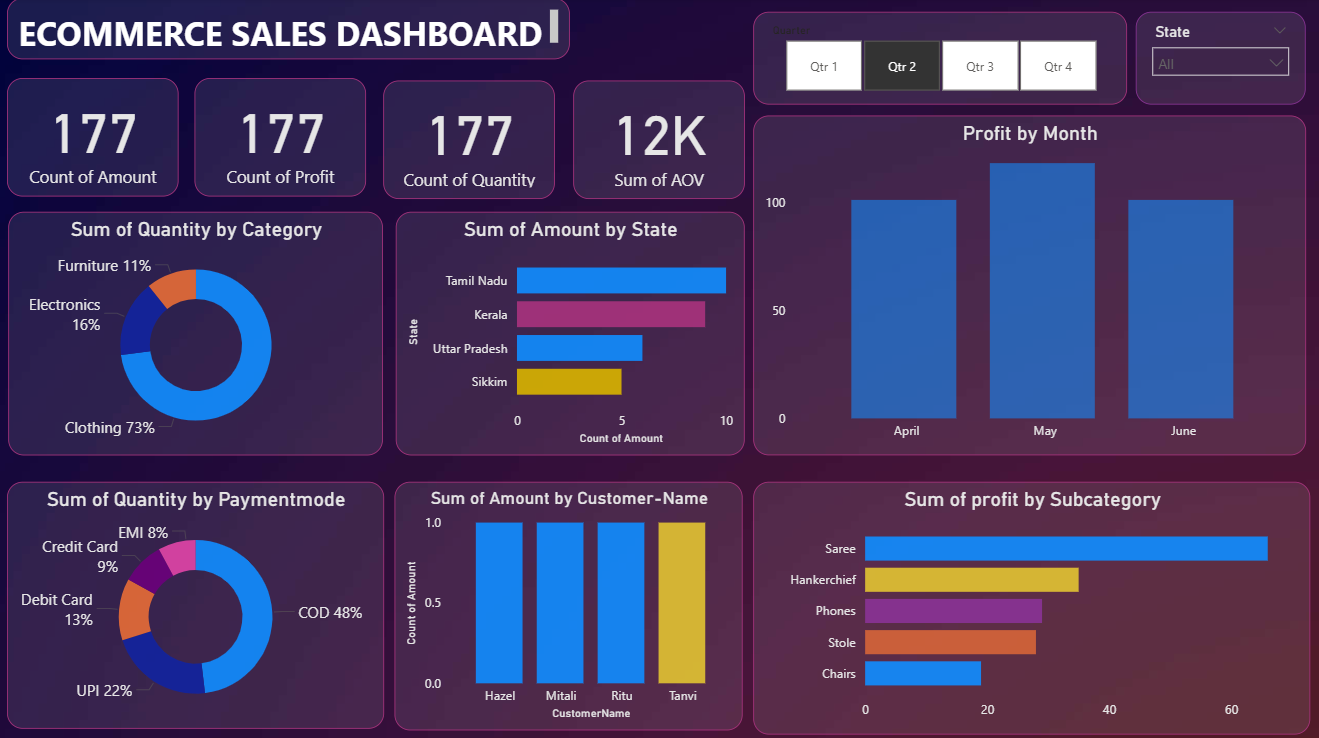

This screenshot's page, from the dashboard's own definition file:
{"tool":"powerbi","page":{"name":"Ecommerce Sales","canvas":[1280,720],"ordinal":0},"visuals":[{"type":"textbox","box":[9.7,0,542.9,59.1],"z":0},{"type":"columnChart","title":"Profit by Month","fields":{"Category":["Orders.Order Date.Variation.Date Hierarchy.Month"],"Y":["CountNonNull(Details.Profit)"]},"box":[729.9,113.4,533.2,328.2],"z":1000},{"type":"donutChart","title":"Sum of Quantity by Category","fields":{"Category":["Details.Category"],"Y":["CountNonNull(Details.Quantity)"]},"box":[10.9,206.3,361.9,235.3],"z":2000},{"type":"clusteredBarChart","title":"Sum of profit by Subcategory","fields":{"Y":["CountNonNull(Details.Profit)"],"Category":["Details.Sub-Category"]},"box":[730,466.6,537.9,244.3],"z":3000},{"type":"donutChart","title":"Sum of Quantity by Paymentmode","fields":{"Y":["CountNonNull(Details.Quantity)"],"Category":["Details.PaymentMode"]},"box":[9.6,466.6,363.6,238.8],"z":4000},{"type":"card","title":"Sum of profit by Subcategory","fields":{"Values":["CountNonNull(Details.Amount)"]},"box":[9.7,77.2,165.3,114.6],"z":5000},{"type":"card","title":"Sum of profit by Subcategory","fields":{"Values":["CountNonNull(Details.Profit)"]},"box":[190.6,77.2,165.3,114.6],"z":6000},{"type":"card","title":"Sum of profit by Subcategory","fields":{"Values":["CountNonNull(Details.Quantity)"]},"box":[372.8,79.6,165.3,114.6],"z":7000},{"type":"card","title":"Sum of profit by Subcategory","fields":{"Values":["Sum(Details.AOV)"]},"box":[556.2,79.6,165.3,114.6],"z":8000},{"type":"clusteredBarChart","title":"Sum of Amount by State","fields":{"Y":["CountNonNull(Details.Amount)"],"Category":["Orders.State"]},"box":[384.9,206.3,336.6,235.3],"z":9000},{"type":"columnChart","title":"Sum of Amount by Customer-Name","fields":{"Category":["Orders.CustomerName"],"Y":["CountNonNull(Details.Amount)"]},"box":[384.2,466.6,336.2,240.1],"z":10000},{"type":"slicer","fields":{"Values":["Orders.Order Date.Variation.Date Hierarchy.Quarter"]},"box":[729.9,13.3,360.7,89.3],"z":11000},{"type":"slicer","fields":{"Values":["Orders.State"]},"box":[1099.1,13.3,164.1,89.3],"z":12000}]}

Visuals, with their boxes in screenshot pixels (x1, y1, x2, y2), scaled from the page's 1280x720 canvas onto the 1319x738 screenshot:
textbox: [10, 0, 569, 61]
"Profit by Month" columnChart: [752, 116, 1302, 453]
"Sum of Quantity by Category" donutChart: [11, 211, 384, 453]
"Sum of profit by Subcategory" clusteredBarChart: [752, 478, 1307, 729]
"Sum of Quantity by Paymentmode" donutChart: [10, 478, 385, 723]
"Sum of profit by Subcategory" card: [10, 79, 180, 197]
"Sum of profit by Subcategory" card: [196, 79, 367, 197]
"Sum of profit by Subcategory" card: [384, 82, 554, 199]
"Sum of profit by Subcategory" card: [573, 82, 743, 199]
"Sum of Amount by State" clusteredBarChart: [397, 211, 743, 453]
"Sum of Amount by Customer-Name" columnChart: [396, 478, 742, 724]
slicer - Orders.Order Date.Variation.Date Hierarchy.Quarter: [752, 14, 1124, 105]
slicer - Orders.State: [1133, 14, 1302, 105]
